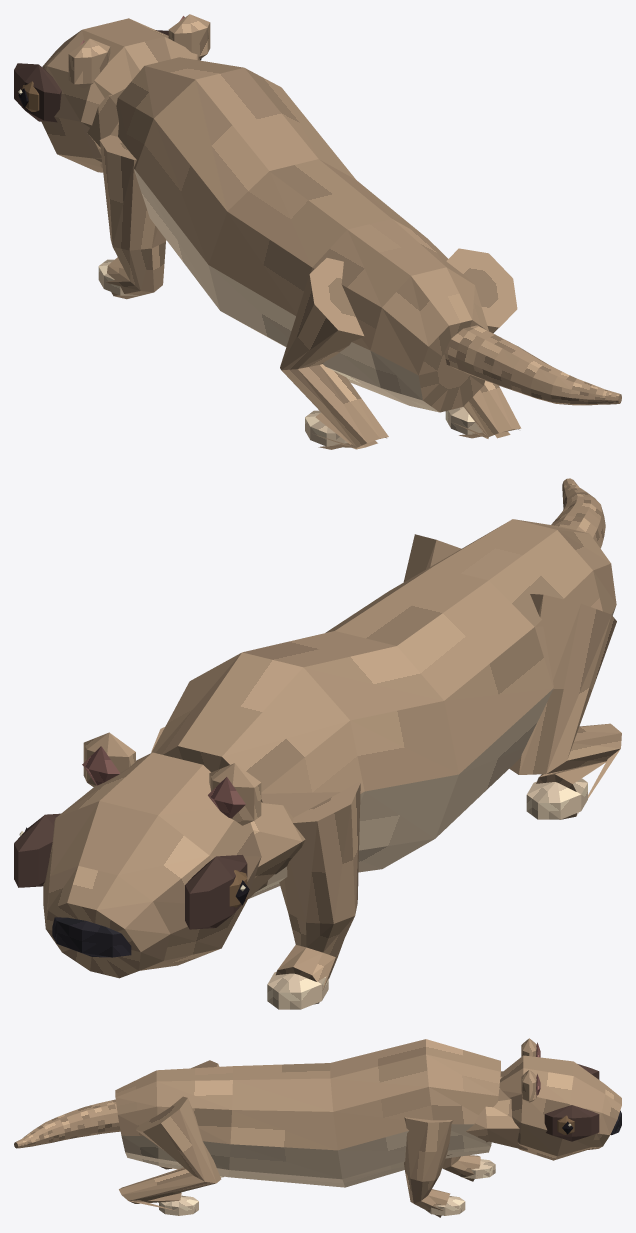
The model's file is mon_ferret_kit.glb.
The picture shows the model from 3 angles, top to bottom: view 1: azimuth 30°, elevation 25°; view 2: azimuth 150°, elevation 25°; view 3: azimuth 270°, elevation 25°; orthographic projection. The views are drawn at different scales.
Parts seen in each view (by area): view 1: closed_body; view 2: closed_body; view 3: closed_body.
Boxes of the visible parts, x1=… form: closed_body: x1=14, y1=14, x2=621, y2=449; closed_body: x1=14, y1=478, x2=621, y2=1009; closed_body: x1=14, y1=1038, x2=621, y2=1217.
Size of the model in its own units: 0.0232 by 0.0294 by 0.1058.
Materials: 1 (1 with a texture image).
